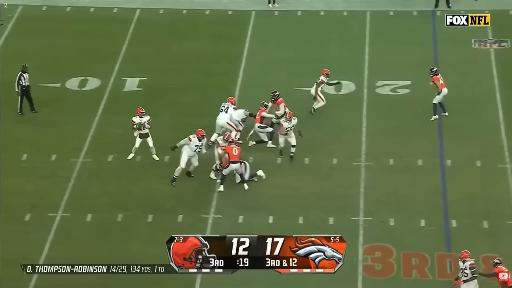Helmet: (270, 90, 280, 103), (460, 250, 470, 260), (493, 258, 503, 267), (196, 129, 205, 139), (285, 111, 293, 122), (430, 67, 438, 76), (137, 107, 145, 116), (223, 133, 231, 142), (227, 97, 236, 105), (322, 69, 330, 77), (216, 163, 222, 172), (260, 102, 268, 108), (242, 118, 246, 121)
Jersey: (178, 135, 205, 153), (132, 115, 150, 134), (217, 103, 235, 121), (459, 260, 474, 281), (280, 117, 297, 135), (255, 108, 273, 124), (223, 146, 241, 162), (274, 98, 287, 117), (230, 110, 247, 124), (432, 75, 445, 89), (315, 76, 327, 91), (216, 136, 227, 147), (494, 266, 509, 274)
Player: (171, 129, 205, 186), (127, 107, 159, 160), (217, 140, 248, 191), (311, 69, 340, 114), (209, 97, 236, 145), (248, 102, 275, 147), (210, 133, 231, 179), (430, 67, 448, 120), (479, 258, 511, 287), (453, 250, 478, 287), (279, 111, 297, 160), (230, 110, 255, 143), (270, 91, 288, 129), (236, 161, 265, 183), (271, 91, 288, 123), (241, 161, 265, 181)
